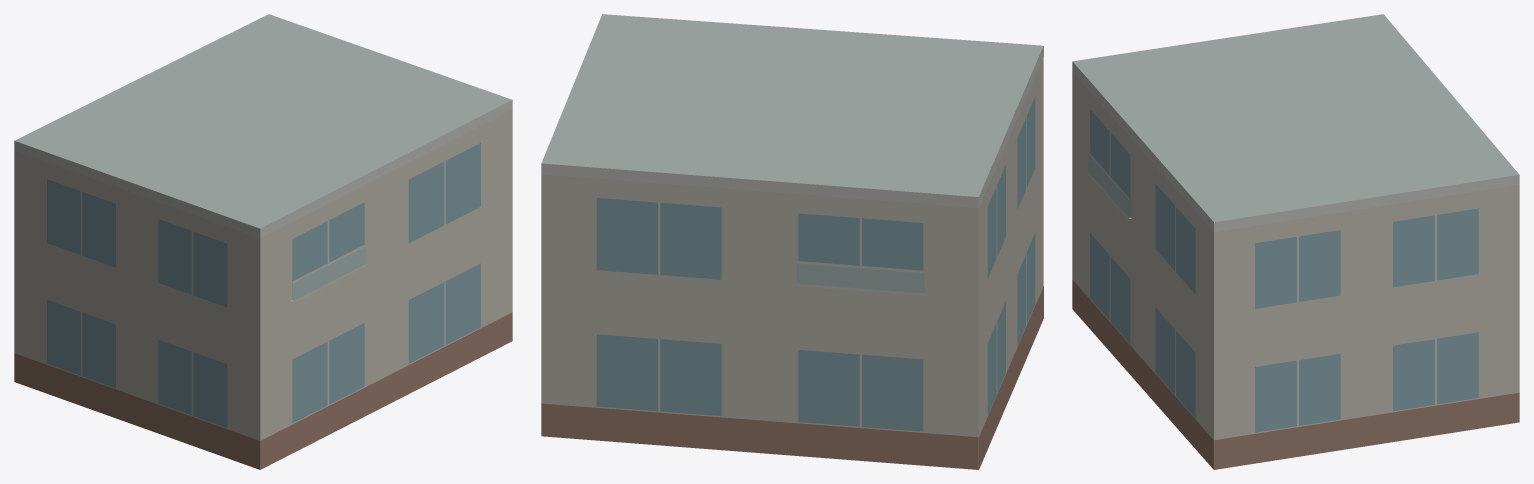
File: survey-upis-32549009.glb
3 views of the same model, side by side, from view 1: azimuth 30°, elevation 25°; view 2: azimuth 150°, elevation 25°; view 3: azimuth 270°, elevation 25° (orthographic). The views are drawn at different scales.
Visible parts, largest first — view 1: survey-upis-32549009.tmp; view 2: survey-upis-32549009.tmp; view 3: survey-upis-32549009.tmp.
Boxes of the visible parts, x1,y1,x2,y2 form: survey-upis-32549009.tmp: [14, 14, 512, 469]; survey-upis-32549009.tmp: [541, 14, 1043, 469]; survey-upis-32549009.tmp: [1072, 14, 1519, 469].
Size of the model in its own units: 11.01 by 6.1 by 10.
